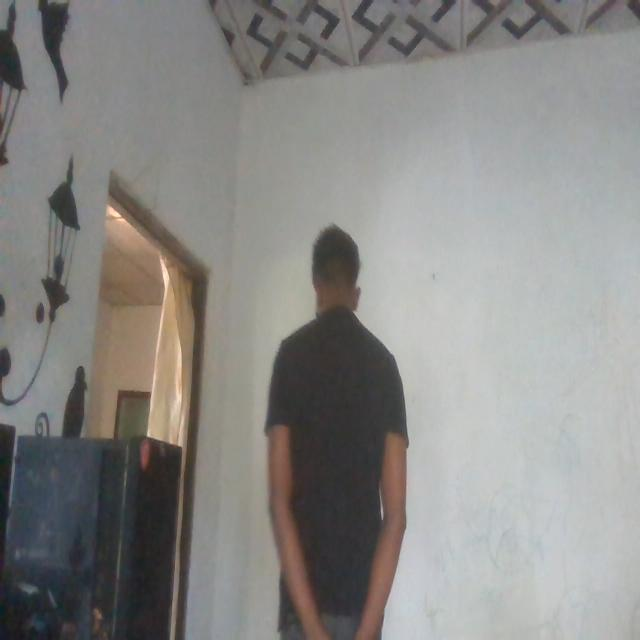Person: (256, 227, 413, 640)
